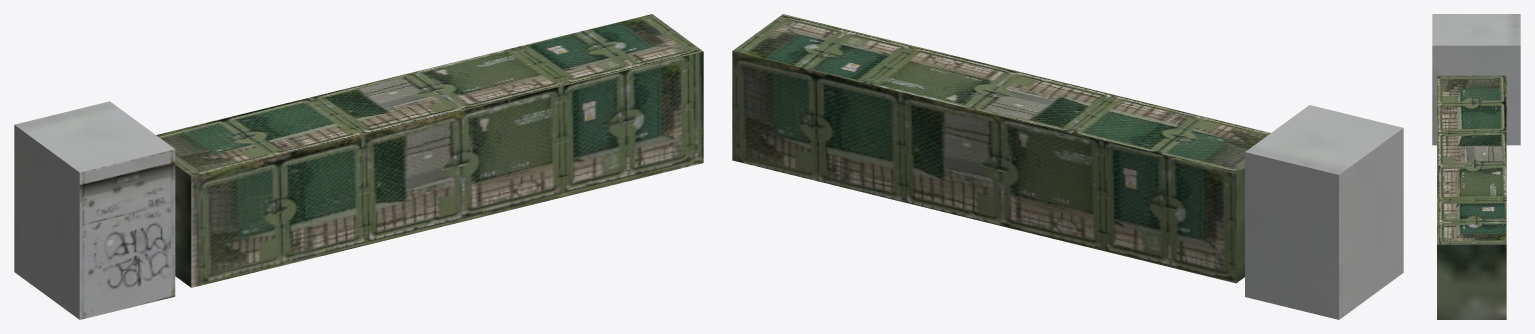
The picture shows the model from 3 angles, left to right: view 1: azimuth 30°, elevation 25°; view 2: azimuth 150°, elevation 25°; view 3: azimuth 270°, elevation 25°; orthographic projection. The views are drawn at different scales.
Visible parts, largest first — view 1: Box4; view 2: Box4; view 3: Box4.
Boxes of the visible parts, <box> form: Box4: <box>14,14,703,319</box>; Box4: <box>732,14,1403,319</box>; Box4: <box>1432,14,1520,319</box>.
Bounding box in the file's own units: 5.79 × 1.3 × 1.05.
Materials: 1 (1 with a texture image).
